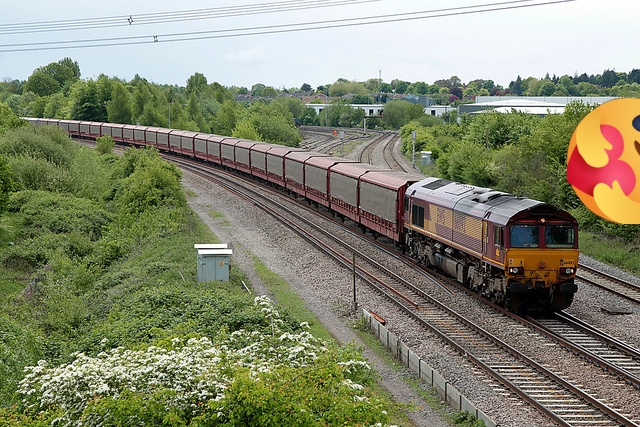care: (567, 98, 640, 224)
